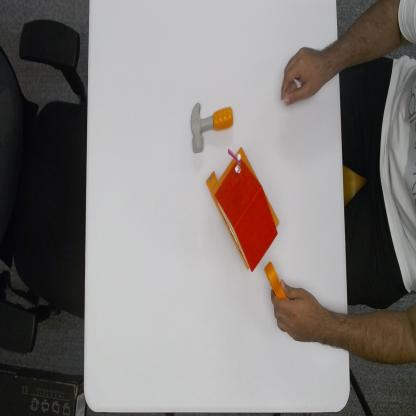Hammer: (188, 101, 235, 155)
Hand: (270, 279, 324, 345), (280, 46, 335, 108)
House: (205, 144, 280, 273)
Screwdriver: (264, 262, 288, 298)
